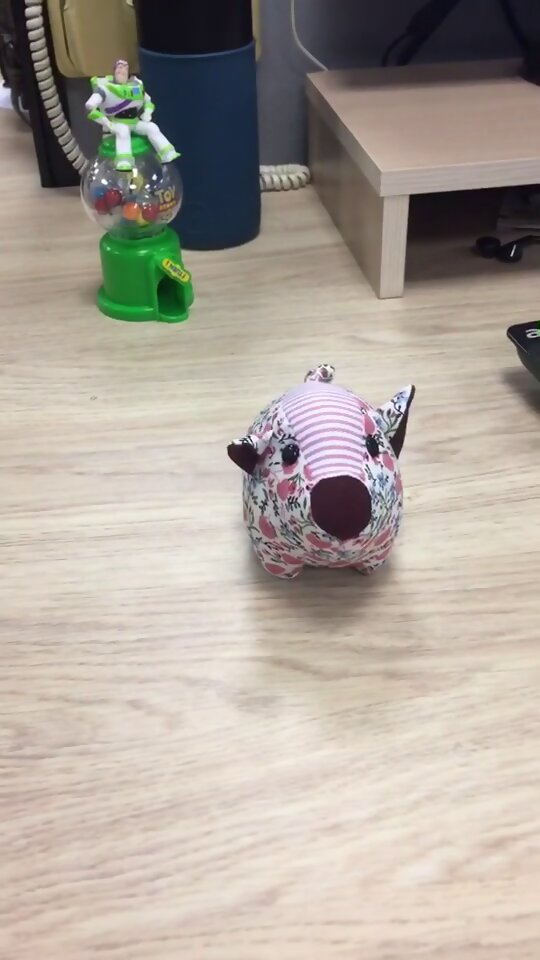pig: (224, 358, 421, 585)
